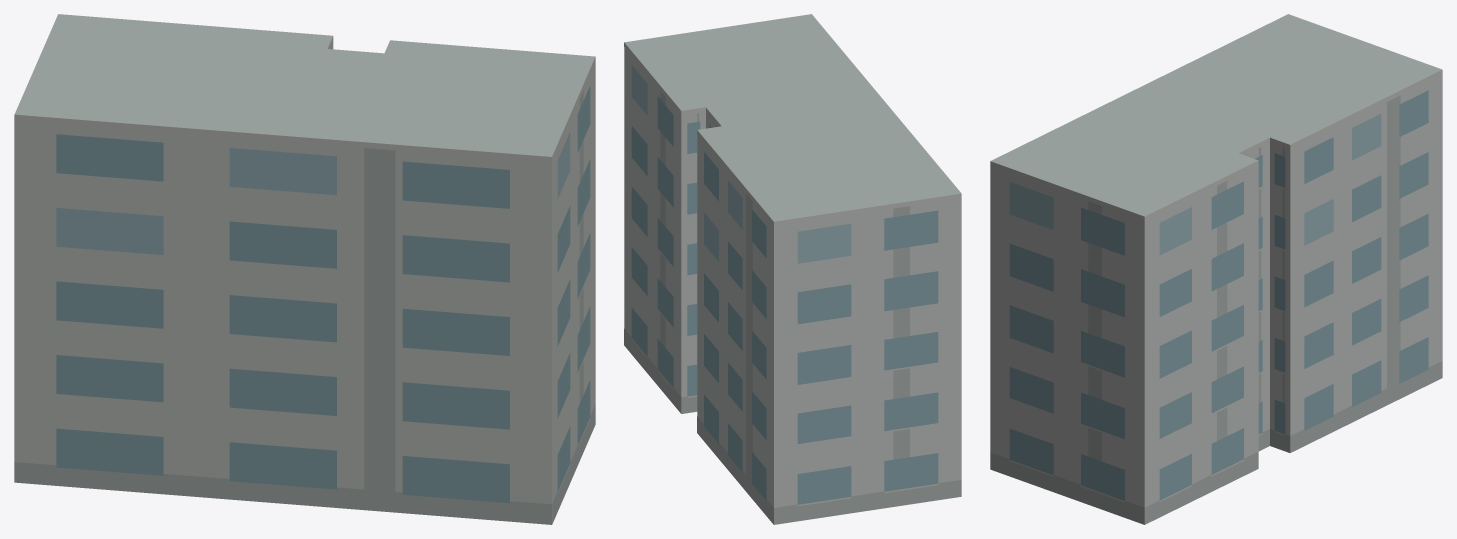
The model's file is survey-upis-32751550.glb.
3 renders of one model, left to right at view 1: azimuth 30°, elevation 25°; view 2: azimuth 150°, elevation 25°; view 3: azimuth 270°, elevation 25°, orthographic. The views are drawn at different scales.
Visible parts, largest first — view 1: survey-upis-32751550.tmp; view 2: survey-upis-32751550.tmp; view 3: survey-upis-32751550.tmp.
Part boxes in pixels (bbox=[...]): survey-upis-32751550.tmp: bbox=[14, 14, 595, 524]; survey-upis-32751550.tmp: bbox=[624, 14, 961, 524]; survey-upis-32751550.tmp: bbox=[990, 14, 1442, 524].
Bounding box in the file's own units: 21.78 × 15.45 × 20.55.
